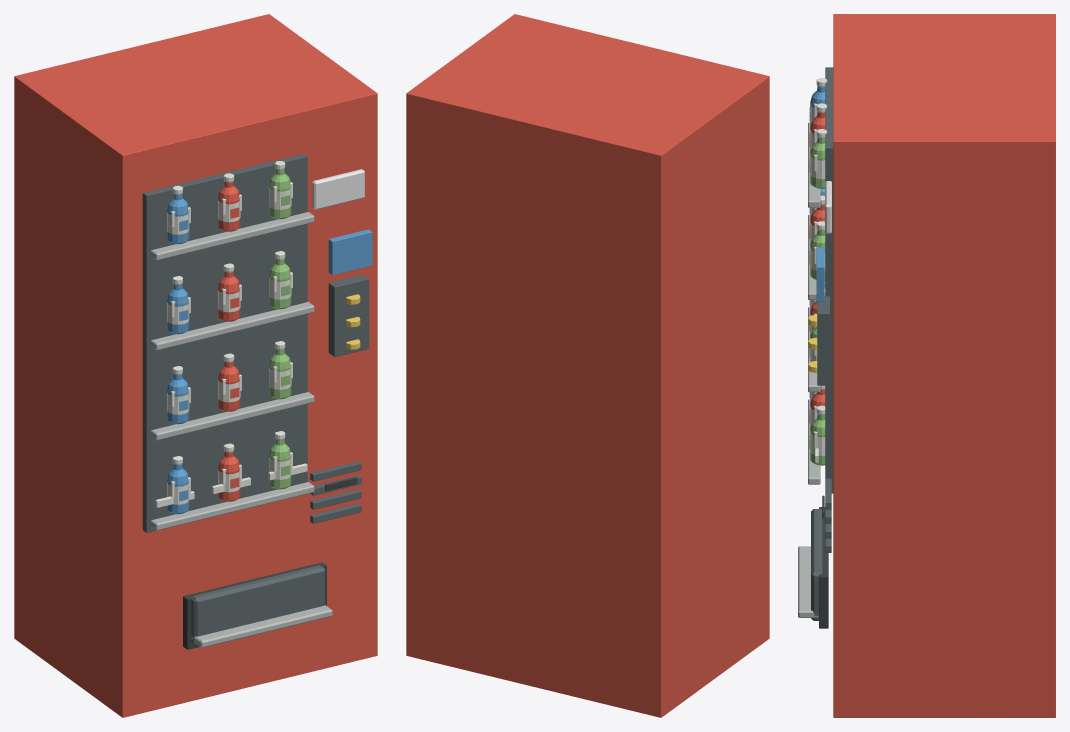
The model's file is Vending_Drinks.fbx.
3 renders of one model, left to right at view 1: azimuth 30°, elevation 25°; view 2: azimuth 150°, elevation 25°; view 3: azimuth 270°, elevation 25°, orthographic. The views are drawn at different scales.
Parts seen in each view (by area): view 1: Vending_Drinks__LPCXFER, Vending_Drinks_Item_11__LPCXFER, Vending_Drinks_Item_05__LPCXFER, Vending_Drinks_Item_08__LPCXFER, Vending_Drinks_Item_10__LPCXFER, Vending_Drinks_Item_06__LPCXFER, Vending_Drinks_Item_04__LPCXFER, Vending_Drinks_Item_07__LPCXFER, Vending_Drinks_Item_09__LPCXFER, Vending_Drinks_Item_12__LPCXFER, Vending_Drinks_Item_02__LPCXFER, Vending_Drinks_Item_03__LPCXFER (+1 smaller); view 2: Vending_Drinks__LPCXFER; view 3: Vending_Drinks__LPCXFER, Vending_Drinks_Item_12__LPCXFER, Vending_Drinks_Item_03__LPCXFER, Vending_Drinks_Item_09__LPCXFER, Vending_Drinks_Item_11__LPCXFER, Vending_Drinks_Item_10__LPCXFER.
Boxes of the visible parts, <box> form: Vending_Drinks__LPCXFER: <box>14,14,377,717</box>; Vending_Drinks_Item_11__LPCXFER: <box>218,173,240,231</box>; Vending_Drinks_Item_05__LPCXFER: <box>218,353,240,411</box>; Vending_Drinks_Item_08__LPCXFER: <box>218,263,240,321</box>; Vending_Drinks_Item_10__LPCXFER: <box>167,185,189,244</box>; Vending_Drinks_Item_06__LPCXFER: <box>269,341,291,399</box>; Vending_Drinks_Item_04__LPCXFER: <box>167,366,189,424</box>; Vending_Drinks_Item_07__LPCXFER: <box>167,276,189,334</box>; Vending_Drinks_Item_09__LPCXFER: <box>269,251,291,309</box>; Vending_Drinks_Item_12__LPCXFER: <box>269,161,291,219</box>; Vending_Drinks_Item_02__LPCXFER: <box>218,443,240,501</box>; Vending_Drinks_Item_03__LPCXFER: <box>269,431,291,489</box>; Vending_Drinks__LPCXFER: <box>406,14,769,717</box>; Vending_Drinks__LPCXFER: <box>798,14,1055,717</box>; Vending_Drinks_Item_12__LPCXFER: <box>809,129,827,188</box>; Vending_Drinks_Item_03__LPCXFER: <box>809,405,825,465</box>; Vending_Drinks_Item_09__LPCXFER: <box>809,221,825,280</box>; Vending_Drinks_Item_11__LPCXFER: <box>809,103,827,152</box>; Vending_Drinks_Item_10__LPCXFER: <box>809,78,827,126</box>.
Bounding box in the file's own units: 95 × 200 × 81.1.
